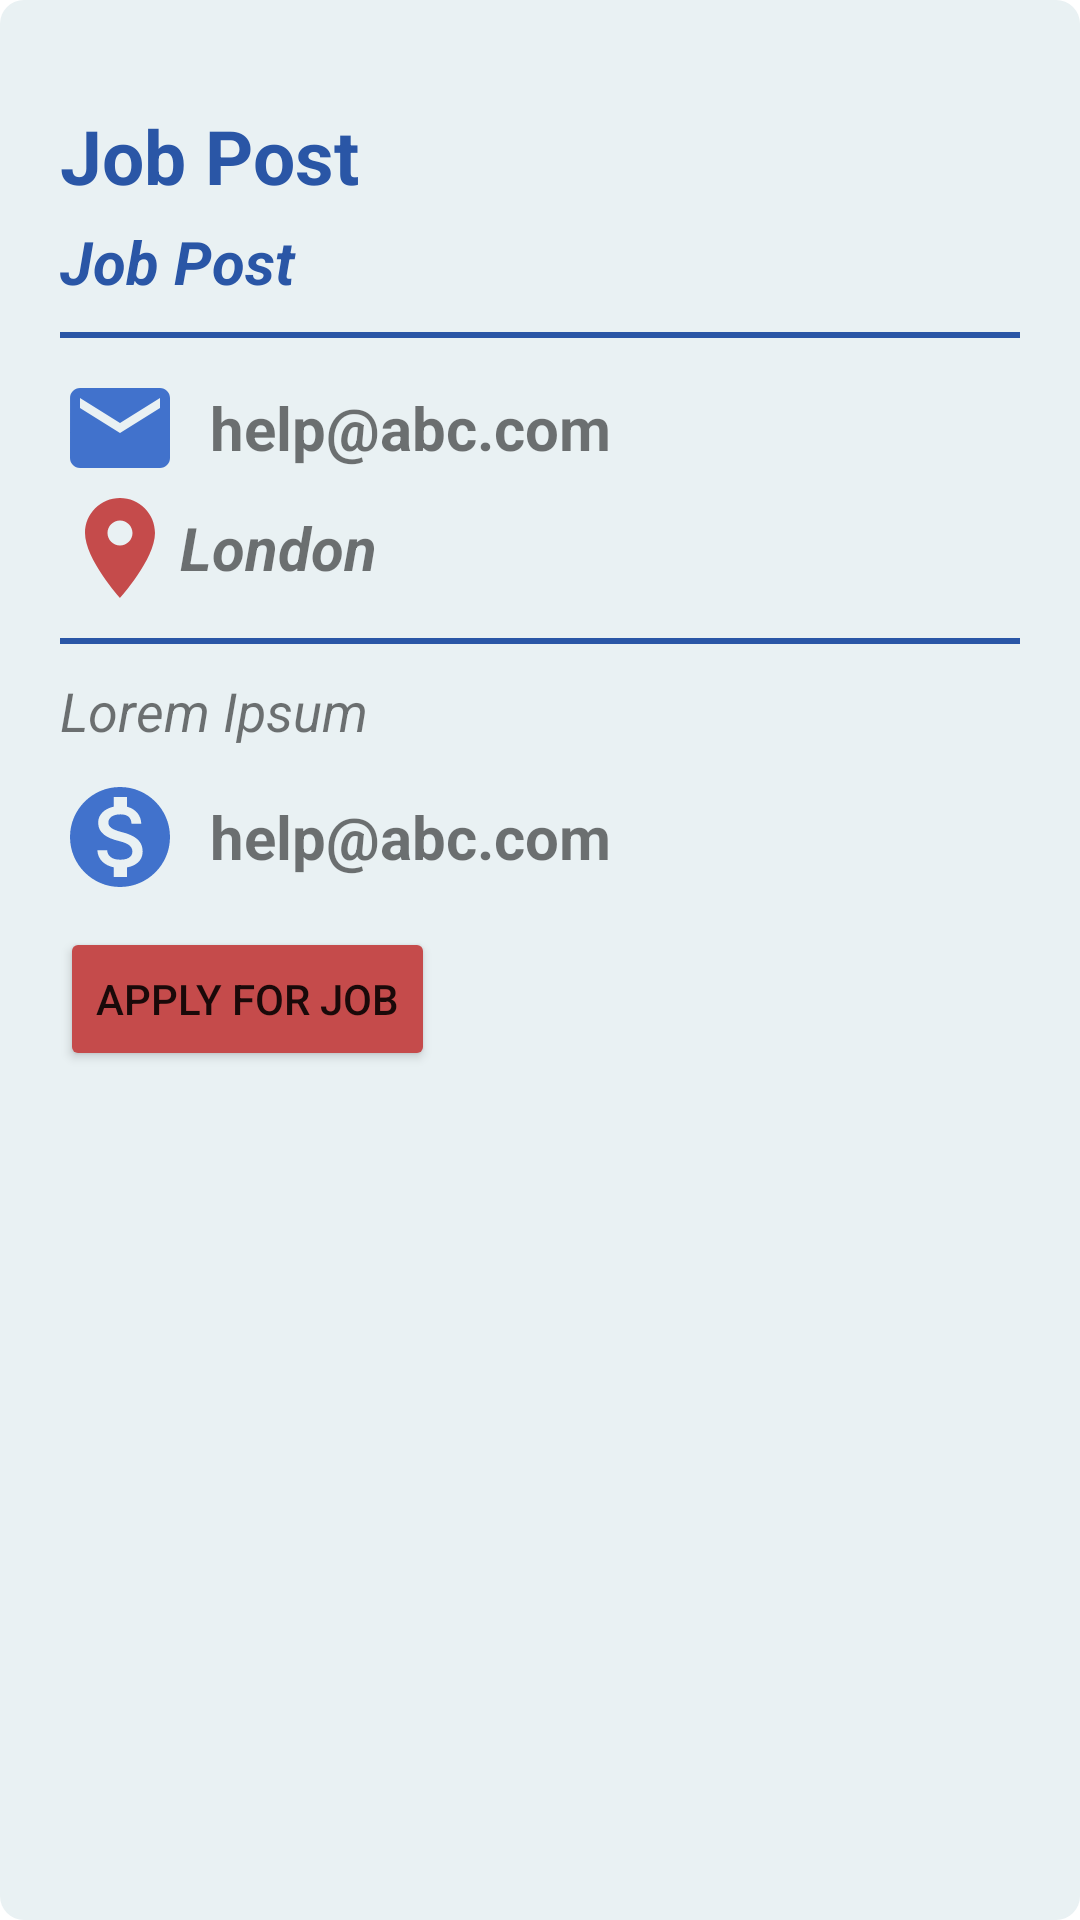

Where icons sit on this 1080px×1920px app screen, as region(x1, y1, x2, y2):
email: region(70, 388, 170, 468)
location on: region(85, 498, 155, 598)
monetization on: region(70, 787, 170, 887)
